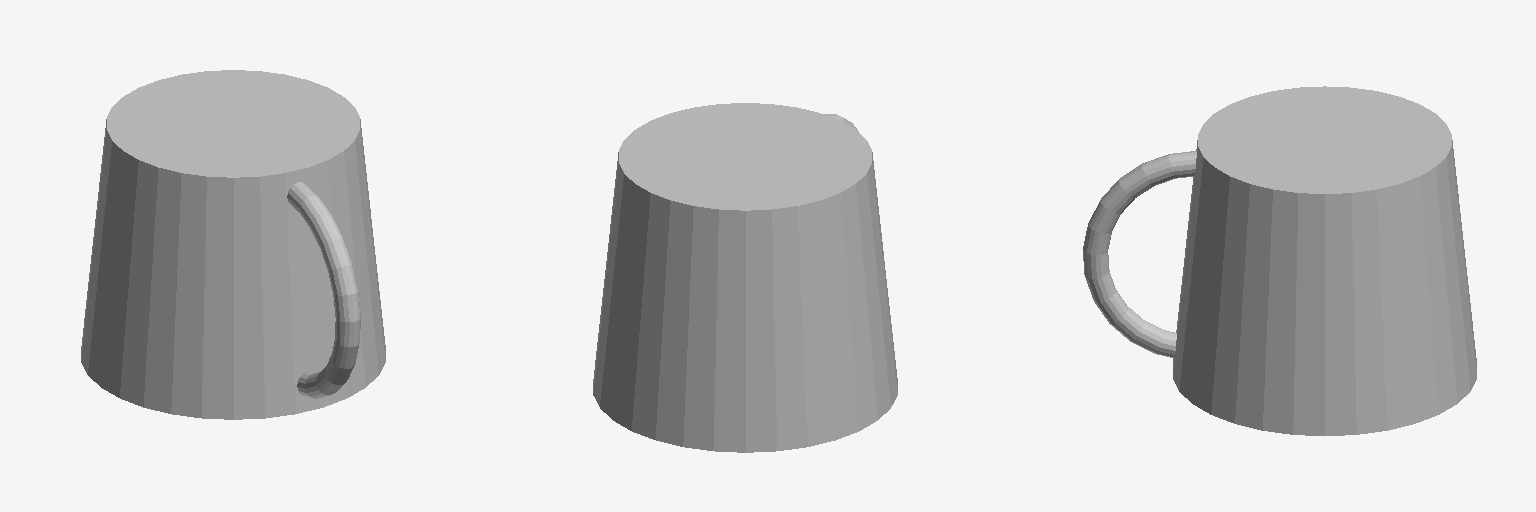
File: gelas.obj
3 renders of one model, left to right at view 1: azimuth 30°, elevation 25°; view 2: azimuth 150°, elevation 25°; view 3: azimuth 270°, elevation 25°, orthographic.
Parts seen in each view (by area): view 1: 0-0-0-0; view 2: 0-0-0-0; view 3: 0-0-0-0.
Boxes of the visible parts, <box> form: 0-0-0-0: <box>81,70,385,419</box>; 0-0-0-0: <box>593,103,897,452</box>; 0-0-0-0: <box>1083,86,1476,435</box>.
Size of the model in its own units: 24 by 20 by 30.92.